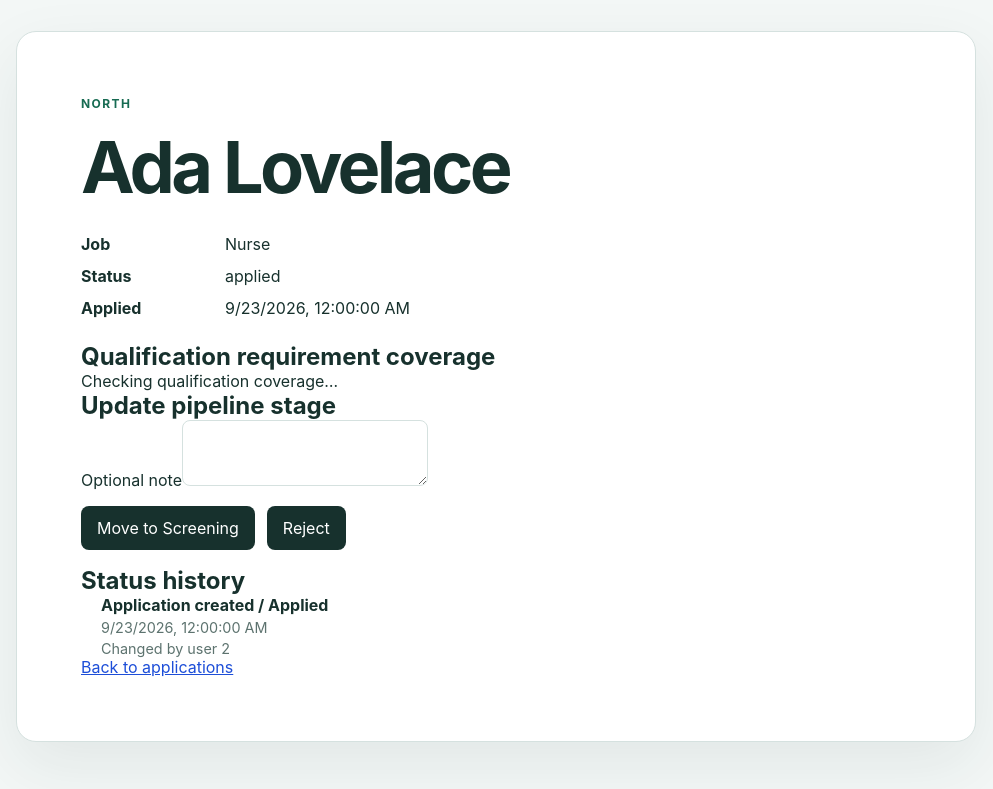
ApplicationDetail › handles mutation error 403
Click the button "Reject": (306, 528) [267,506,346,550]
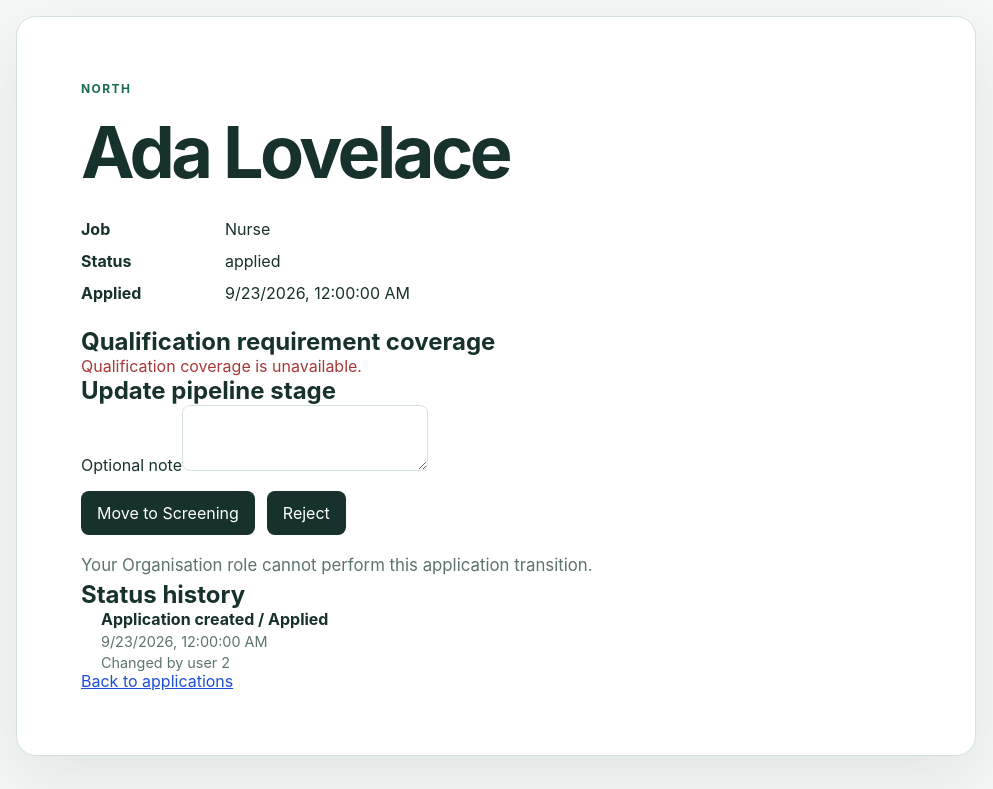
expect the text "Your Organisation role cannot perform this application transition." is shown: met, box [81,555,593,575]
